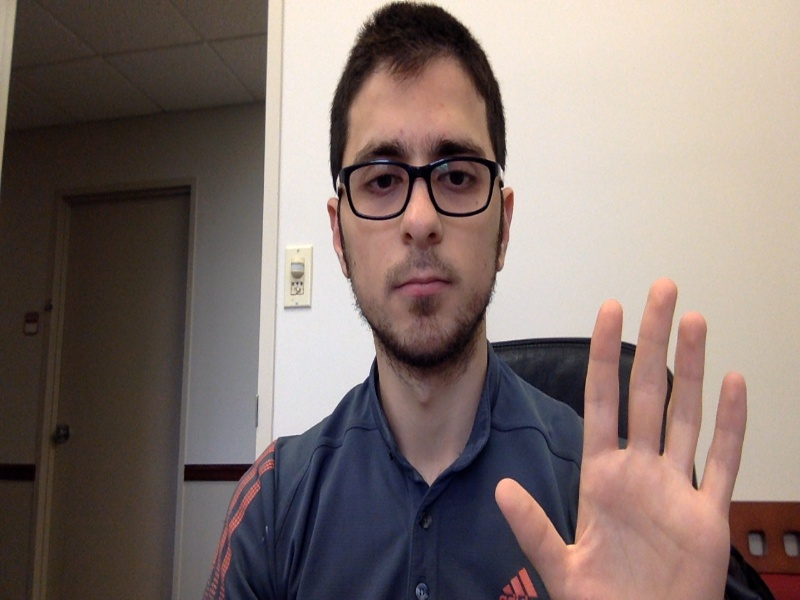5-hand: (494, 280, 748, 600)
